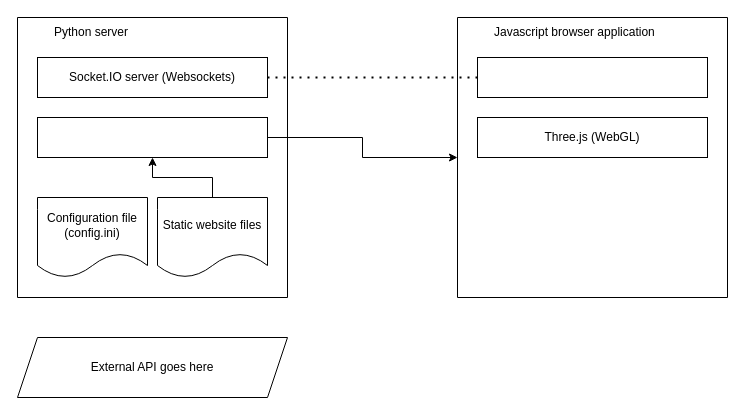
Some shapes in this 745 by 415 pixel diagram are drawn without their labels. The shapes that lost their labels are listed below. From the top down, each one's centre as x and y in pixels, then its label:
the point at 592,77: Socket.IO client (Websockets)
the point at 152,137: Static file server (HTTP)
